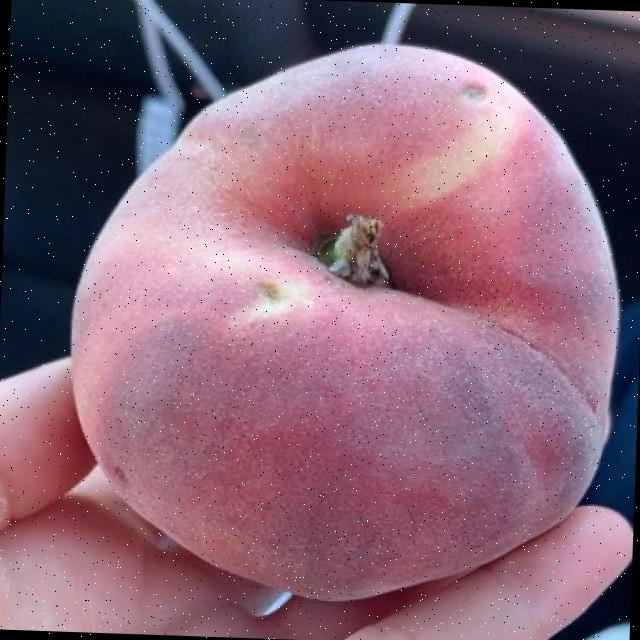peach: (88, 48, 569, 584)
